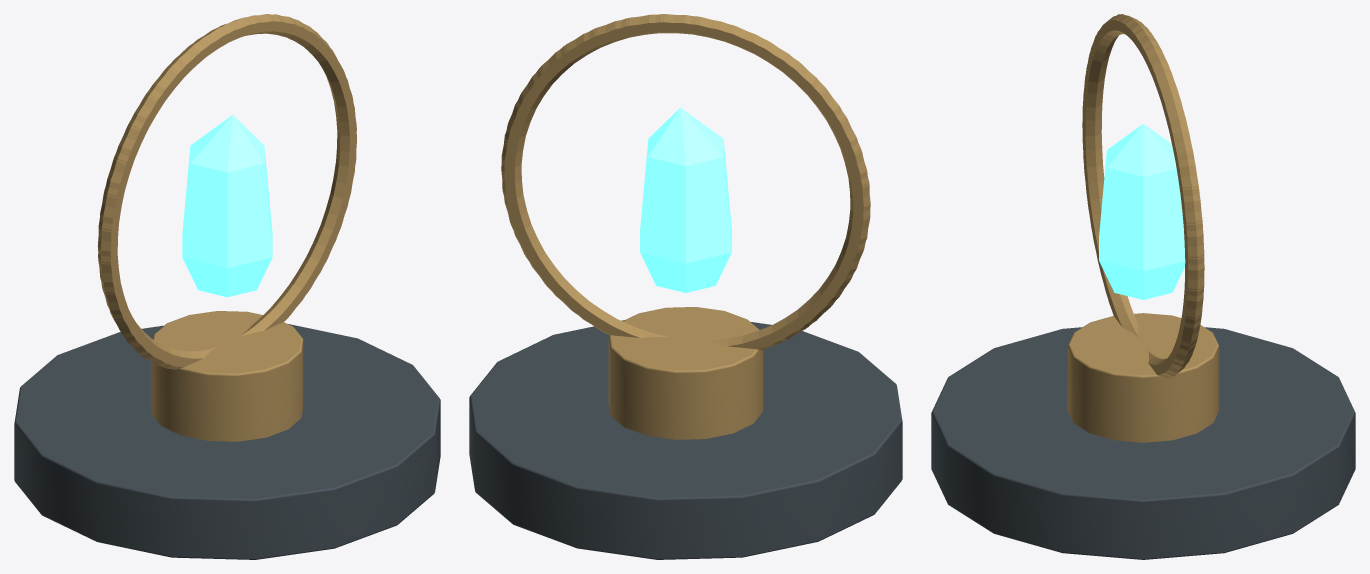
Rendered from armillary.glb.
The picture shows the model from 3 angles, left to right: view 1: azimuth 30°, elevation 25°; view 2: azimuth 150°, elevation 25°; view 3: azimuth 270°, elevation 25°; orthographic projection. The views are drawn at different scales.
Visible parts, largest first — view 1: Armillary base, Armillary mount, Central star, Celestial orbit, Celestial orbit.001, Celestial orbit.002; view 2: Armillary base, Armillary mount, Central star, Celestial orbit, Celestial orbit.001, Celestial orbit.002; view 3: Armillary base, Armillary mount, Central star, Celestial orbit, Celestial orbit.001, Celestial orbit.002.
Boxes of the visible parts, bbox=[...] form: Armillary base: bbox=[14, 324, 440, 559]; Armillary mount: bbox=[151, 311, 303, 441]; Central star: bbox=[182, 115, 272, 297]; Celestial orbit: bbox=[97, 14, 356, 369]; Celestial orbit.001: bbox=[98, 14, 356, 369]; Celestial orbit.002: bbox=[98, 14, 356, 367]; Armillary base: bbox=[469, 320, 902, 559]; Armillary mount: bbox=[608, 307, 763, 439]; Central star: bbox=[640, 107, 731, 292]; Celestial orbit: bbox=[501, 14, 870, 350]; Celestial orbit.001: bbox=[501, 14, 870, 348]; Celestial orbit.002: bbox=[501, 14, 870, 346]; Armillary base: bbox=[931, 327, 1355, 559]; Armillary mount: bbox=[1067, 313, 1219, 442]; Central star: bbox=[1099, 124, 1185, 299]; Celestial orbit: bbox=[1082, 14, 1204, 378]; Celestial orbit.001: bbox=[1082, 14, 1204, 378]; Celestial orbit.002: bbox=[1083, 14, 1204, 378].
Size of the model in its own units: 2.8 by 3.21 by 2.8.
